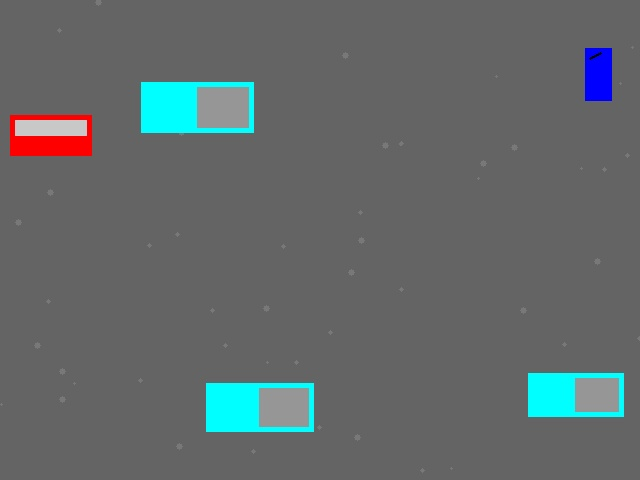car: (10, 115, 91, 155)
motorcycle: (585, 48, 611, 100)
truck: (141, 82, 253, 132), (206, 383, 313, 431), (528, 373, 623, 416)
